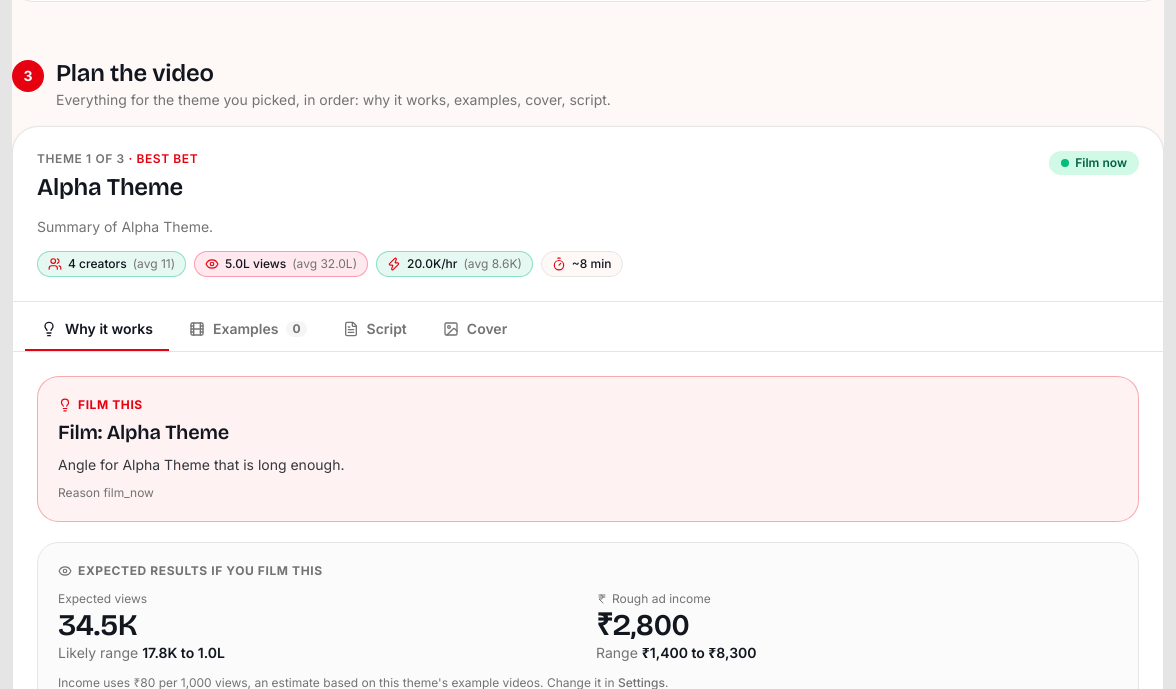
Test: the Examples tab › (regression) when every example is below the minimum it says so instead of an empty gap
The width and height of the screenshot is (1176, 689).
(page scrolled)
Step 1. Click the tab "Examples 0" → (248, 330), box [173,309,322,351]
(page scrolled)
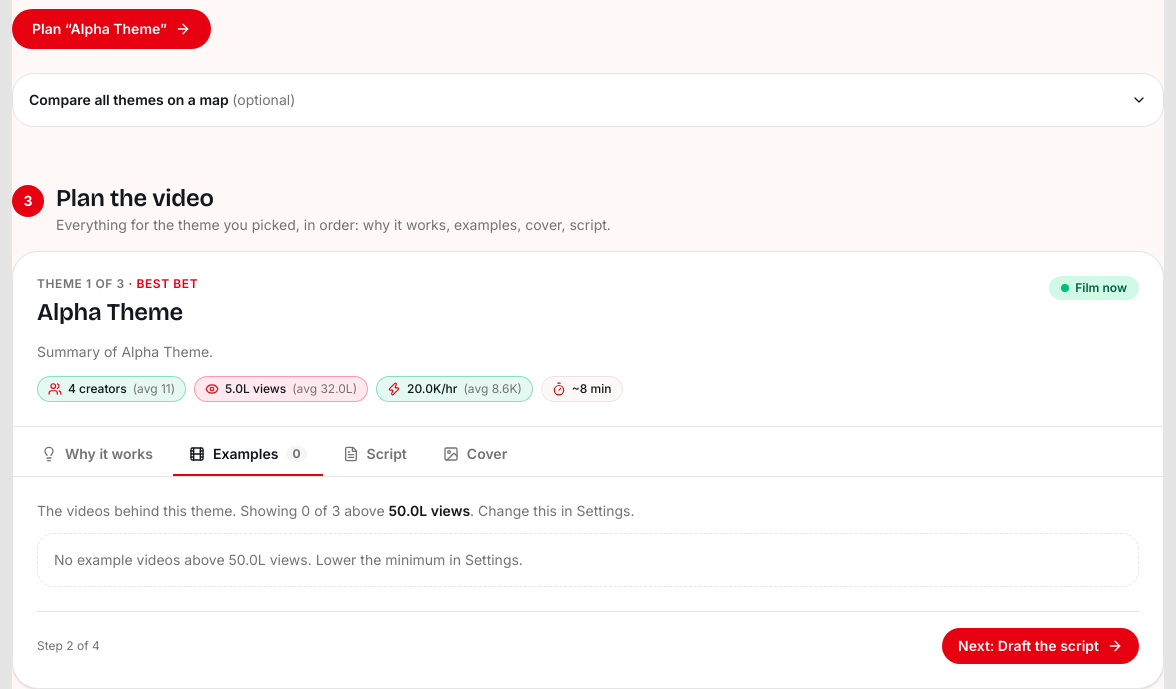
Expected: the text "No example videos above 50.0L views" is shown, [37,533,1139,587]
